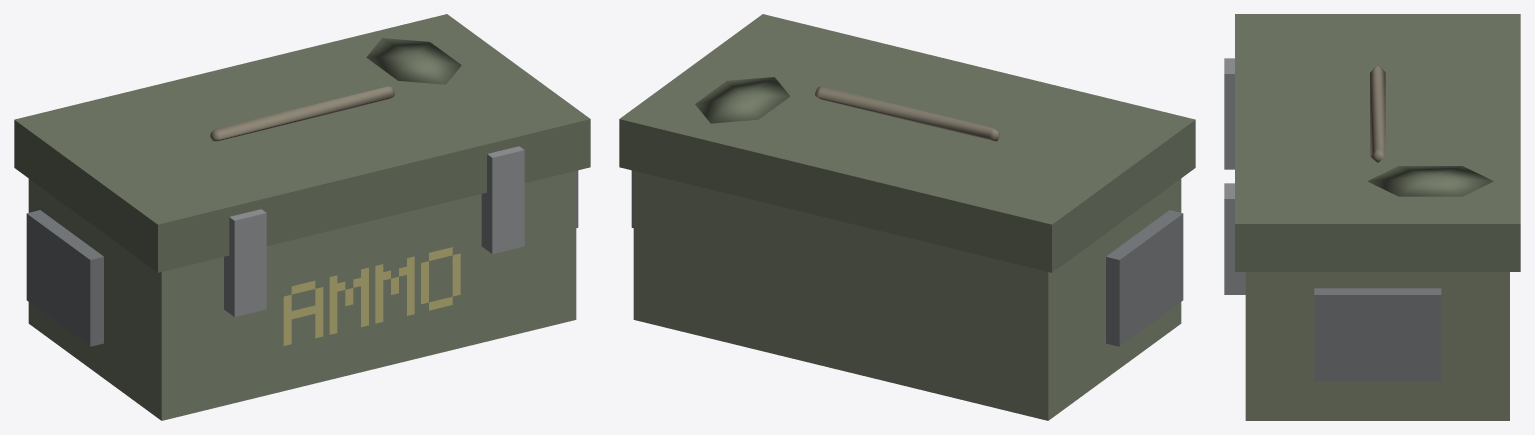
Rendered from caixa_municao.glb.
3 views of the same model, side by side, from view 1: azimuth 30°, elevation 25°; view 2: azimuth 150°, elevation 25°; view 3: azimuth 270°, elevation 25° (orthographic).
Parts seen in each view (by area): view 1: caixa_municao; view 2: caixa_municao; view 3: caixa_municao.
Part boxes in pixels (left/top/right/bottom): caixa_municao: left=14, top=14, right=590, bottom=420; caixa_municao: left=619, top=14, right=1195, bottom=420; caixa_municao: left=1224, top=14, right=1520, bottom=420.
Bounding box in the file's own units: 1.06 × 0.445 × 0.56.
